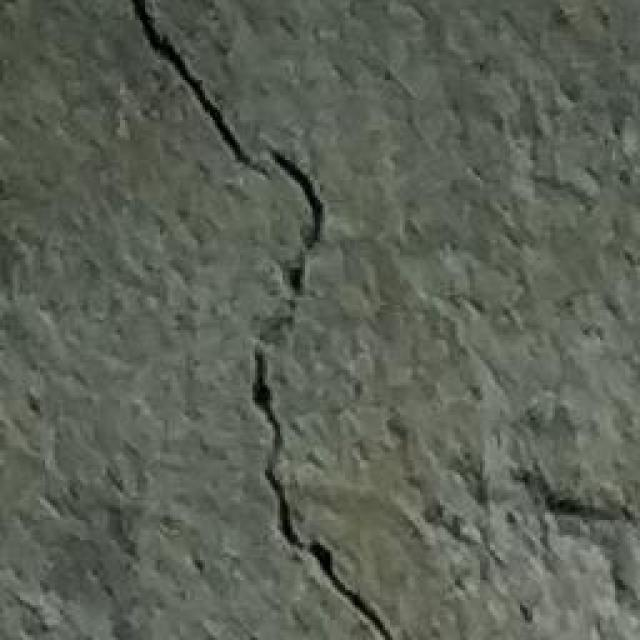Longitudinal: (132, 0, 443, 640)
